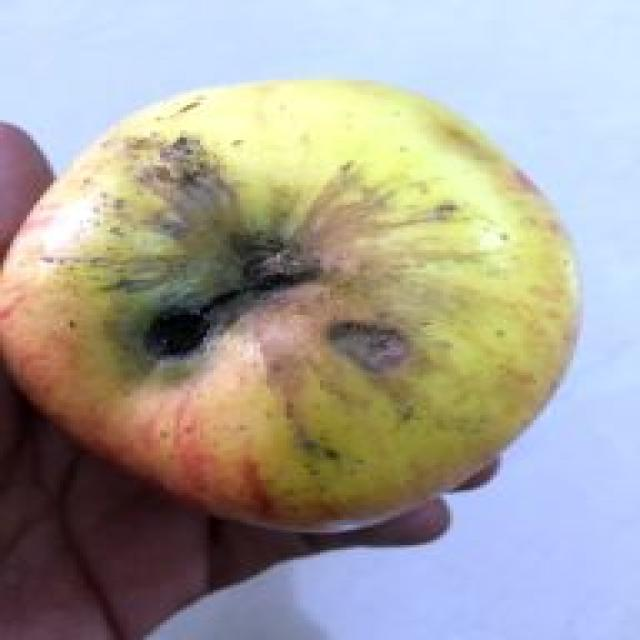Bad_Apple: (3, 81, 577, 529)
